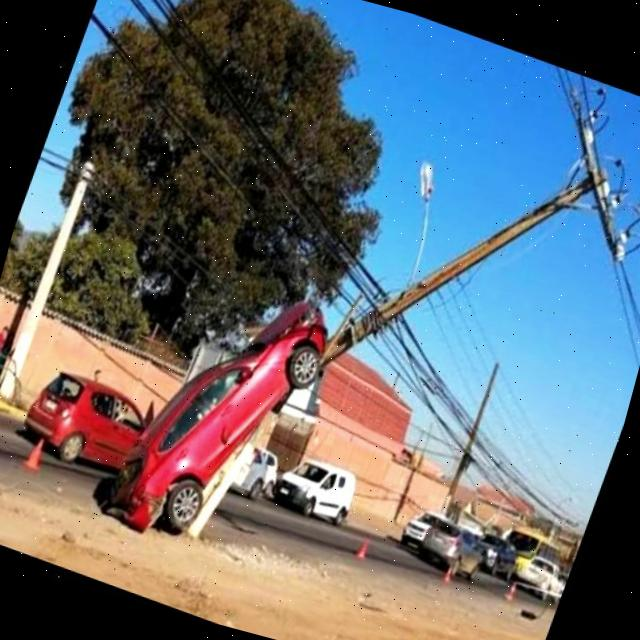Broken Pole: (181, 86, 640, 535)
